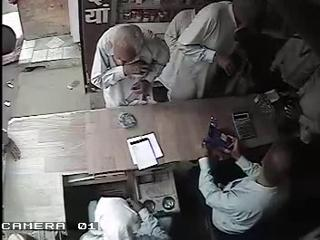Normal: (197, 115, 296, 240), (156, 0, 262, 102), (90, 24, 170, 109)
